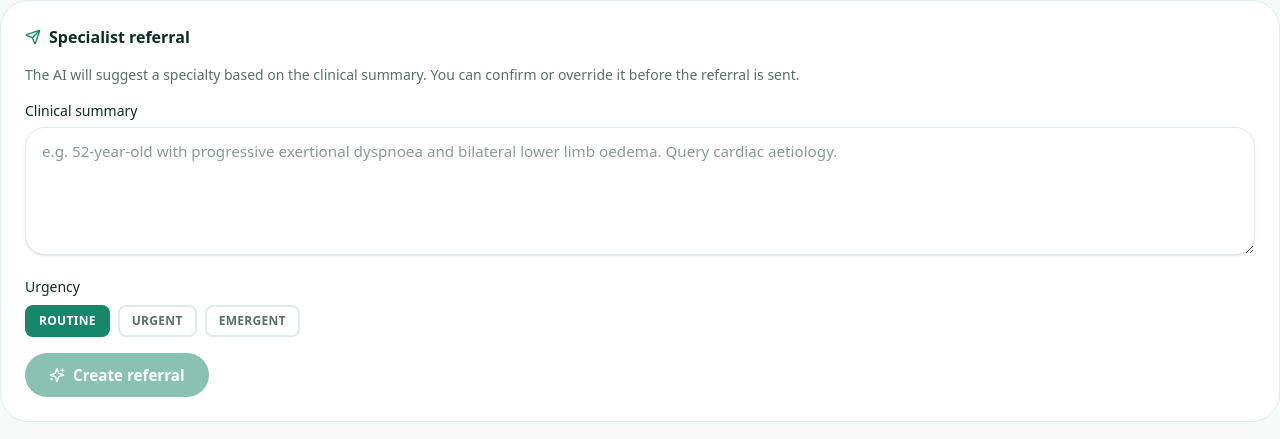
Test case: ReferralCard › calls createReferral with correct payload on submit
Later steps or results of the test are not shown.
In the text box with placeholder "52-year-old": (640, 191) [25,127,1255,255], type "Patient with worsening chest pain"
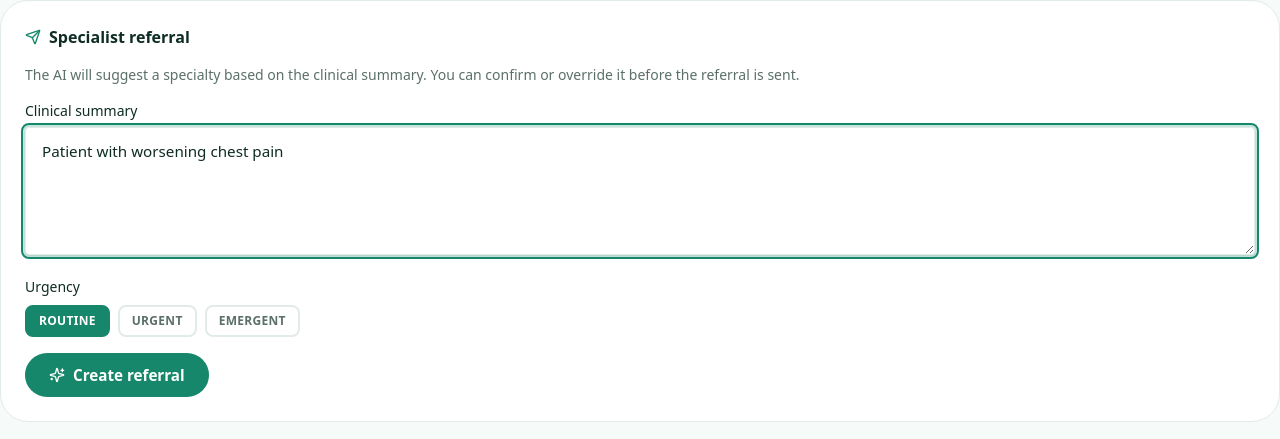
Now the button "Create referral" is enabled, box [25,353,209,397]
